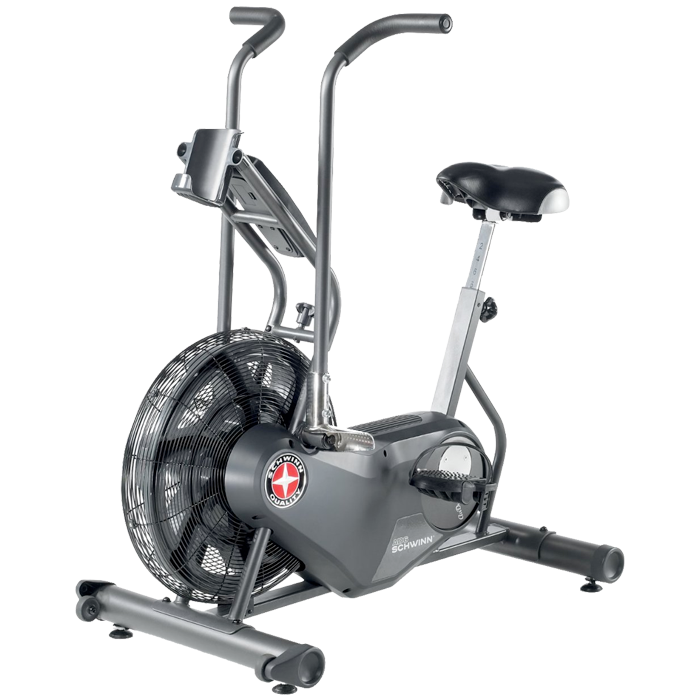gym_bike: (68, 5, 638, 690)
